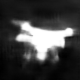plane: (11, 18, 79, 64)
